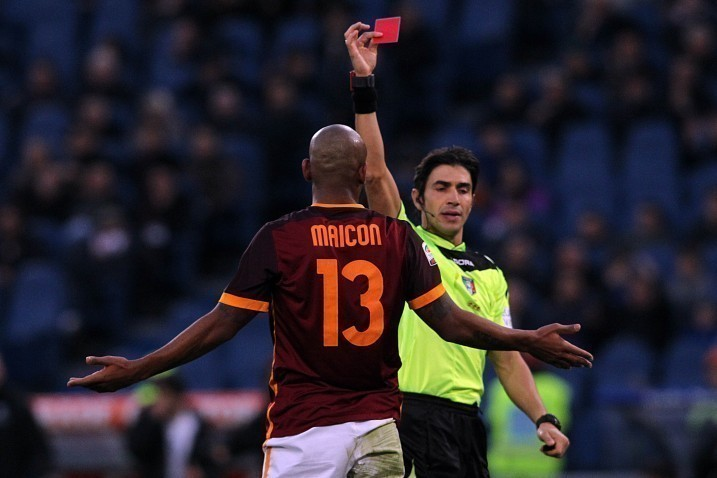red_card: (331, 6, 424, 75)
